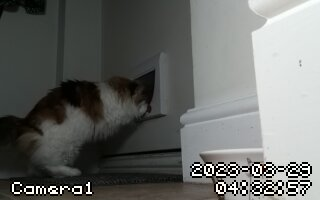clara: (9, 72, 159, 177)
